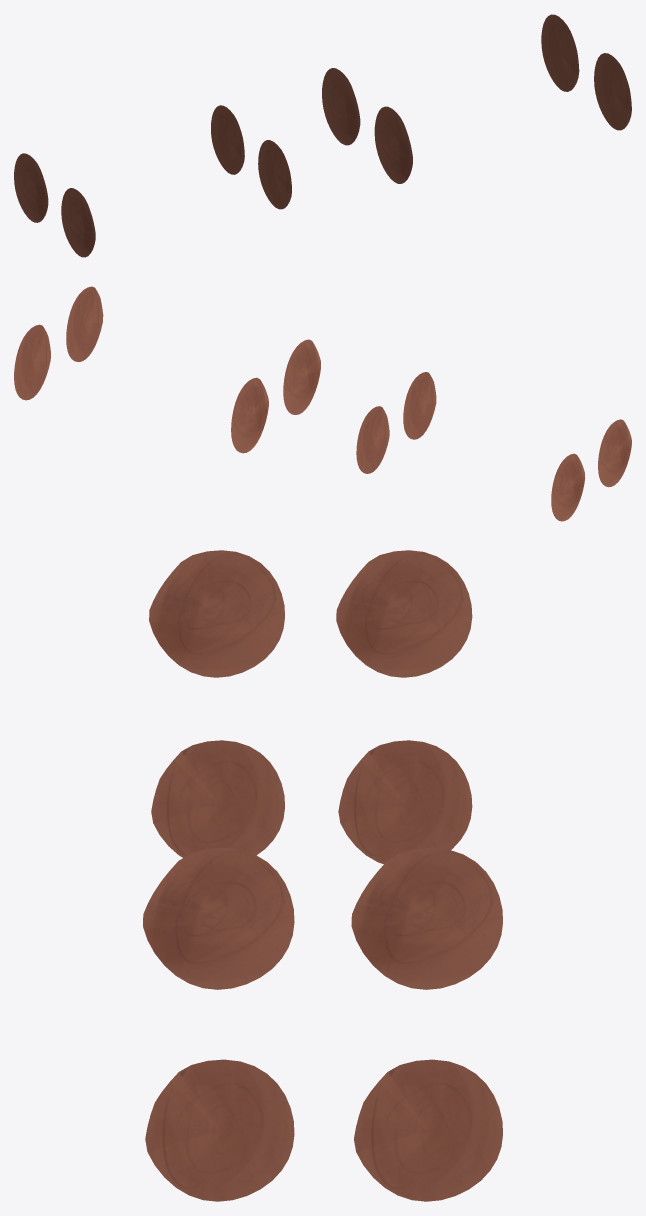
File: farzi_collider.fbx
3 views of the same model, one above another, from view 1: azimuth 30°, elevation 25°; view 2: azimuth 150°, elevation 25°; view 3: azimuth 270°, elevation 25° (orthographic). The views are drawn at different scales.
Parts seen in each view (by area): view 1: Object.005, Object.006, Object.003, Object.002; view 2: Object.006, Object.005, Object.003, Object.002; view 3: Object.006, Object.005, Object.003, Object.002.
Part boxes in pixels (x1,y1,x2,y2): Object.005: (322, 14, 579, 145); Object.006: (374, 53, 631, 183); Object.003: (14, 105, 244, 222); Object.002: (61, 140, 291, 257); Object.006: (66, 286, 320, 414); Object.005: (14, 324, 268, 453); Object.003: (356, 406, 585, 521); Object.002: (403, 372, 631, 487); Object.006: (143, 847, 294, 1201); Object.005: (351, 847, 502, 1201); Object.003: (336, 550, 472, 864); Object.002: (149, 550, 284, 857).
Size of the model in its own units: 1289 by 165 by 379.
